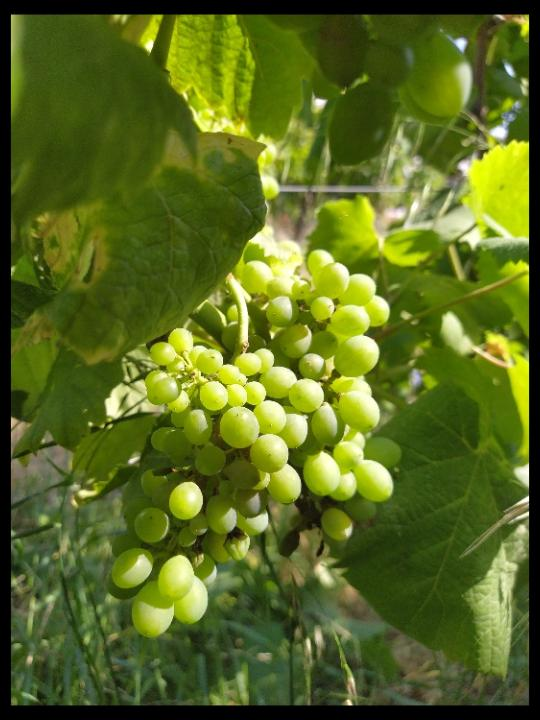grape: (102, 245, 405, 641)
